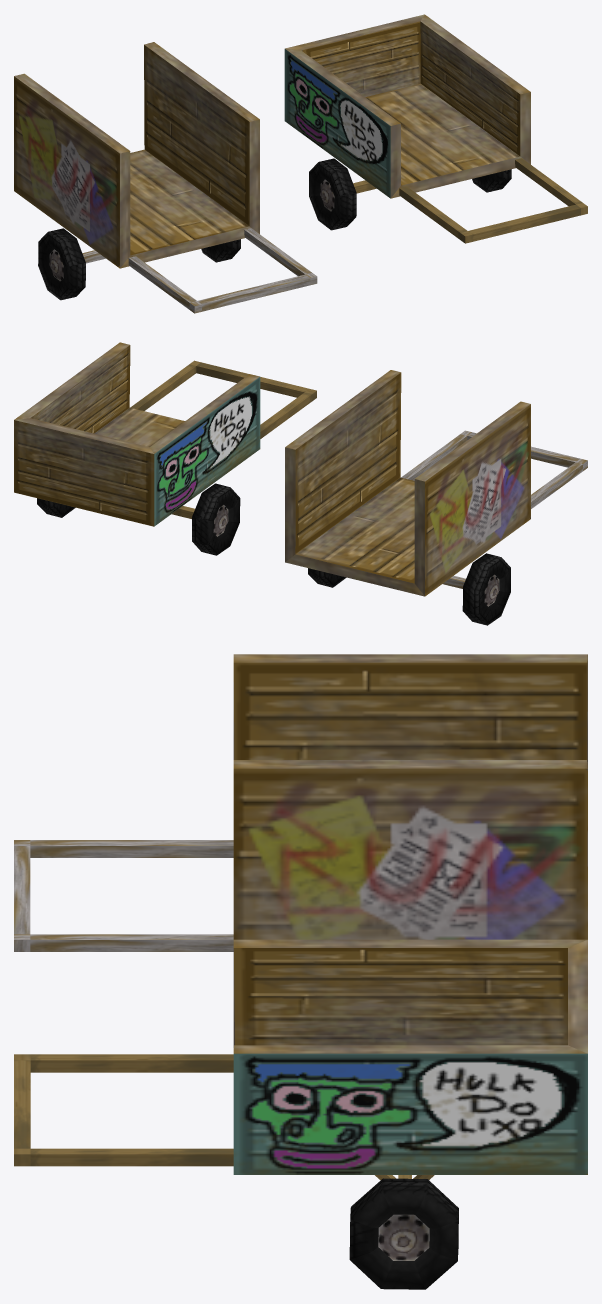
Rendered from carroca_lixo_mod.fbx.
The picture shows the model from 3 angles, top to bottom: view 1: azimuth 30°, elevation 25°; view 2: azimuth 150°, elevation 25°; view 3: azimuth 270°, elevation 25°; orthographic projection. The views are drawn at different scales.
Visible parts, largest first — view 1: carroca-grande, carroca-pequena; view 2: carroca-grande, carroca-pequena; view 3: carroca-grande, carroca-pequena.
Part boxes in pixels (bbox=[...]): carroca-grande: bbox=[14, 42, 317, 313]; carroca-pequena: bbox=[284, 14, 587, 243]; carroca-grande: bbox=[285, 370, 587, 625]; carroca-pequena: bbox=[14, 342, 316, 555]; carroca-grande: bbox=[14, 654, 587, 951]; carroca-pequena: bbox=[14, 939, 587, 1289].
Bounding box in the file's own units: 828 × 313 × 554.
